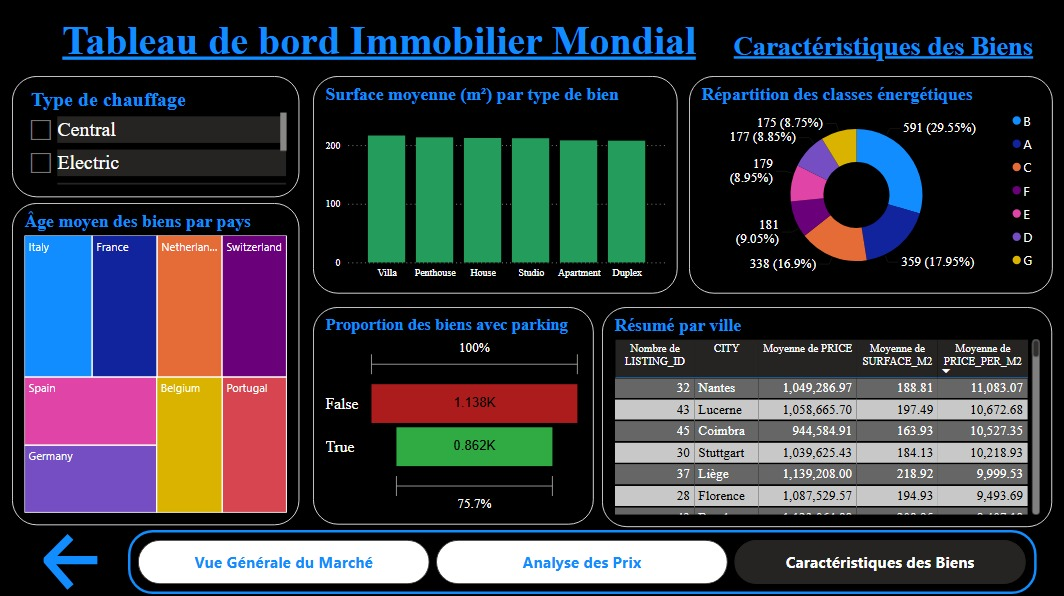

This screenshot's page, from the dashboard's own definition file:
{"tool":"powerbi","page":{"name":"Caractéristiques des Biens","canvas":[1280,720],"ordinal":2},"visuals":[{"type":"textbox","box":[0,6.6,961,90.4],"z":0},{"type":"actionButton","box":[26.5,639.3,134.8,77.1],"z":1000},{"type":"textbox","box":[868,22.6,400.1,74.4],"z":2000},{"type":"pageNavigator","box":[154.1,639.3,1094.4,77.1],"z":3000},{"type":"treemap","title":"Âge moyen des biens par pays","fields":{"Group":["DIM_LOCATION.COUNTRY"],"Values":["Avg(FACT_LISTINGS.PROPERTY_AGE)"]},"box":[14.4,245.6,345.6,387.7],"z":4000},{"type":"donutChart","title":"Répartition des classes énergétiques","fields":{"Y":["CountNonNull(FACT_LISTINGS.LISTING_ID)"],"Category":["DIM_PROPERTY.ENERGY_RATING"]},"box":[829.6,92.7,438.3,262.5],"z":5000},{"type":"clusteredColumnChart","title":"Surface moyenne (m²) par type de bien","fields":{"Category":["DIM_PROPERTY.PROPERTY_TYPE"],"Y":["Avg(FACT_LISTINGS.SURFACE_M2)"]},"box":[376.9,92.7,439.5,262.5],"z":6000},{"type":"funnel","title":"Proportion des biens avec parking","fields":{"Category":["DIM_PROPERTY.PARKING"],"Y":["Count(FACT_LISTINGS.LISTING_ID)"]},"box":[376.9,370.8,338.3,262.5],"z":7000},{"type":"slicer","fields":{"Values":["DIM_PROPERTY.HEATING_TYPE"]},"box":[14.4,92.7,345.6,145.7],"z":8000},{"type":"tableEx","title":"Résumé par ville","fields":{"Values":["Count(FACT_LISTINGS.LISTING_ID)","DIM_LOCATION.CITY","Avg(FACT_LISTINGS.PRICE)","Avg(FACT_LISTINGS.SURFACE_M2)","Avg(FACT_LISTINGS.PRICE_PER_M2)"]},"box":[724.8,370.8,541.8,264.9],"z":9000}]}

Visuals, with their boxes in screenshot pixels (x1, y1, x2, y2), scaled from the page's 1280x720 canvas onto the 1064x596 screenshot:
textbox: BBox(0, 5, 799, 80)
actionButton: BBox(22, 529, 134, 593)
textbox: BBox(722, 19, 1054, 80)
pageNavigator: BBox(128, 529, 1038, 593)
"Âge moyen des biens par pays" treemap: BBox(12, 203, 299, 524)
"Répartition des classes énergétiques" donutChart: BBox(690, 77, 1054, 294)
"Surface moyenne (m²) par type de bien" clusteredColumnChart: BBox(313, 77, 679, 294)
"Proportion des biens avec parking" funnel: BBox(313, 307, 595, 524)
slicer - DIM_PROPERTY.HEATING_TYPE: BBox(12, 77, 299, 197)
"Résumé par ville" tableEx: BBox(602, 307, 1053, 526)
